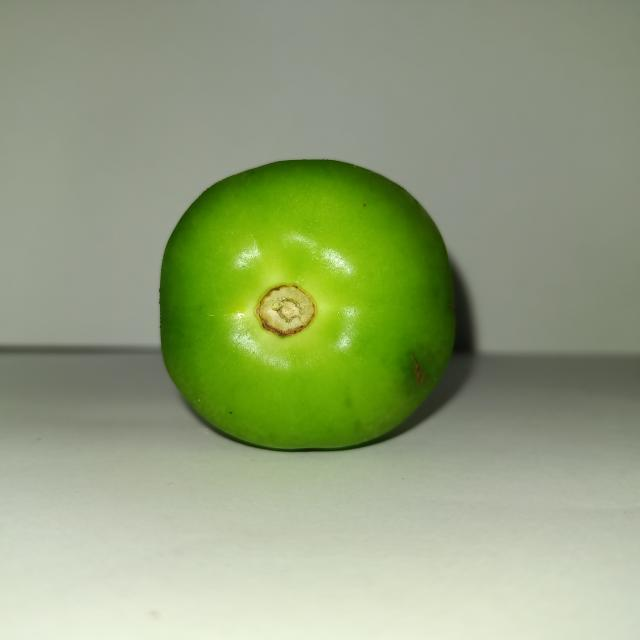Red: (157, 156, 458, 452)
